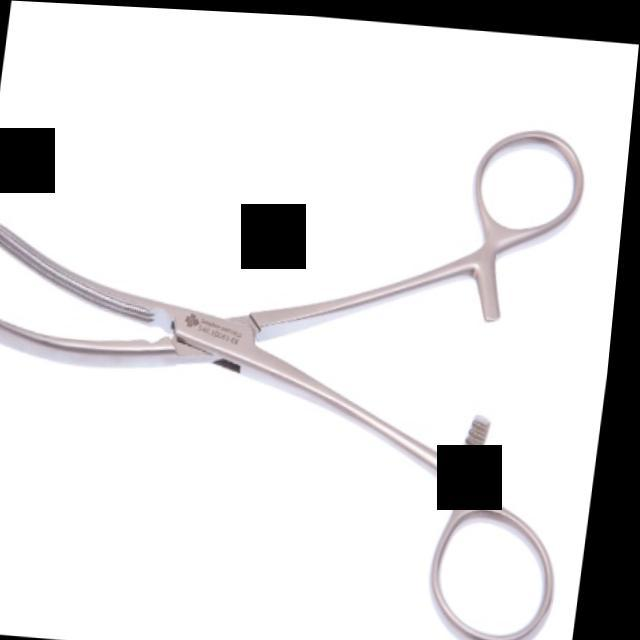Doyel Instestinal Forceps: (0, 81, 618, 640)
